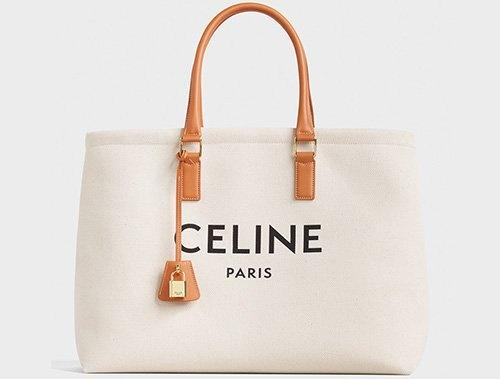CELINE: (174, 223, 322, 255)
